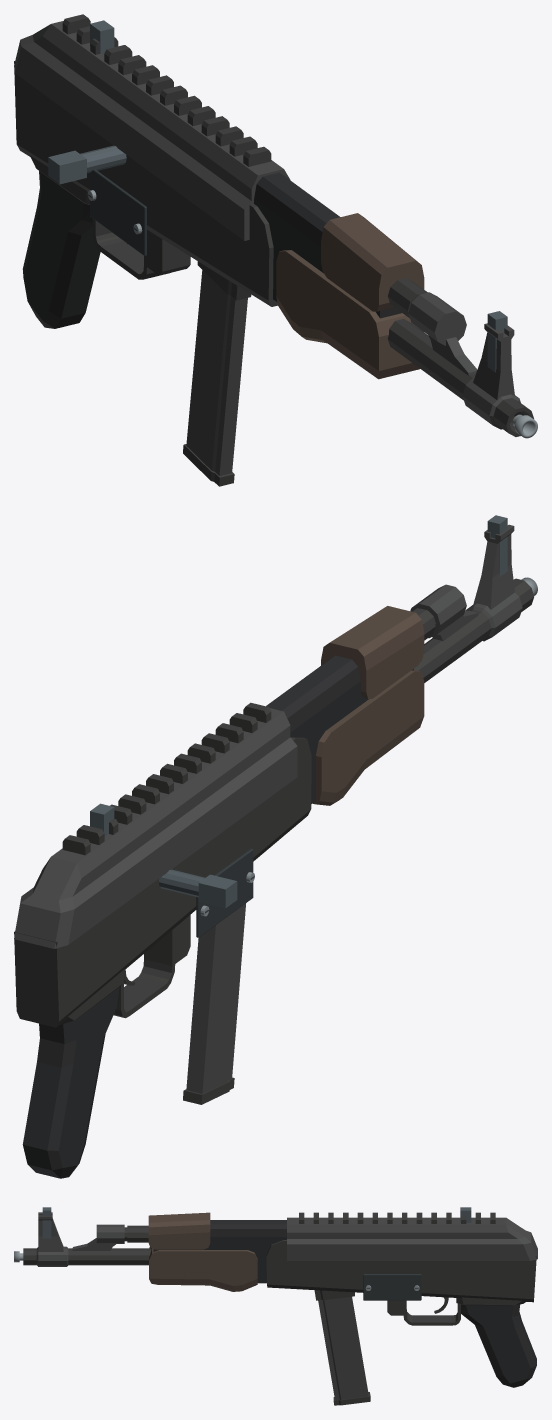
Rendered from weapon_00.glb.
3 views of the same model, one above another, from view 1: azimuth 30°, elevation 25°; view 2: azimuth 150°, elevation 25°; view 3: azimuth 270°, elevation 25° (orthographic). The views are drawn at different scales.
Visible parts, largest first — view 1: receiver_geometry, source_magazine_12, Recessed receiver plate.001, charging_handle_geometry, CC0_weapon_00_geometry; view 2: receiver_geometry, source_magazine_12, charging_handle_geometry, Recessed receiver plate.001, CC0_weapon_00_geometry; view 3: receiver_geometry, source_magazine_12, Recessed receiver plate, CC0_weapon_00_geometry.
Boxes of the visible parts, x1,y1,x2,y2 form: receiver_geometry: (14, 14, 533, 436); source_magazine_12: (183, 261, 251, 486); Recessed receiver plate.001: (90, 169, 146, 255); charging_handle_geometry: (48, 145, 126, 184); CC0_weapon_00_geometry: (90, 20, 507, 372); receiver_geometry: (14, 524, 533, 1178); source_magazine_12: (183, 903, 245, 1104); charging_handle_geometry: (159, 869, 237, 908); Recessed receiver plate.001: (196, 848, 253, 937); CC0_weapon_00_geometry: (90, 515, 507, 836); receiver_geometry: (23, 1212, 537, 1387); source_magazine_12: (314, 1290, 370, 1405); Recessed receiver plate: (363, 1274, 421, 1300); CC0_weapon_00_geometry: (42, 1207, 471, 1238).
Bounding box in the file's own units: 0.1472 × 0.3509 × 0.855.
